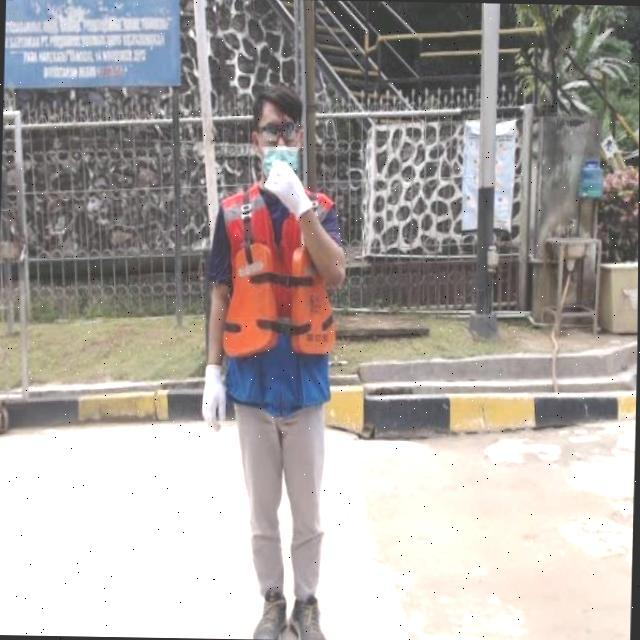goggles_on: (255, 120, 306, 144)
